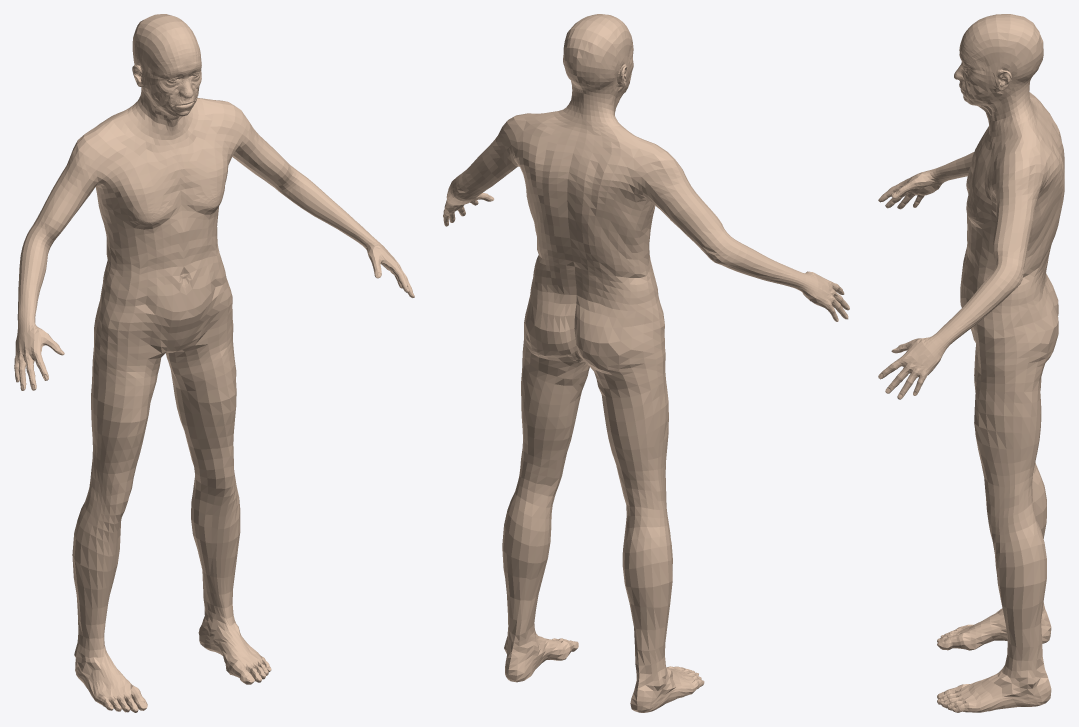
File: male-elder-fit-strong.glb
3 renders of one model, left to right at view 1: azimuth 30°, elevation 25°; view 2: azimuth 150°, elevation 25°; view 3: azimuth 270°, elevation 25°, orthographic.
Visible parts, largest first — view 1: world; view 2: world; view 3: world.
Boxes of the visible parts, box(x1,y1,x2,y2) form: world: box(14, 14, 414, 712); world: box(443, 14, 849, 712); world: box(878, 14, 1064, 712).
Bounding box in the file's own units: 1.2 × 1.92 × 0.4938.
